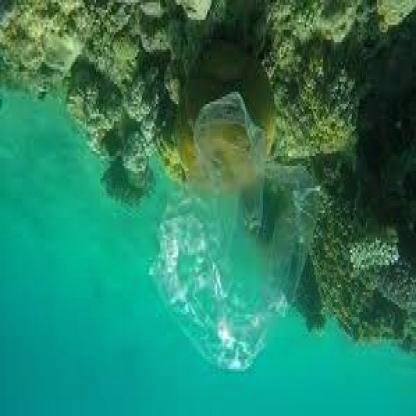pbag: (145, 87, 320, 379)
